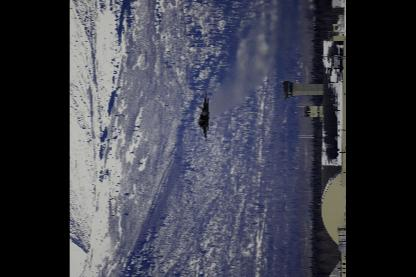F18: (194, 90, 209, 140)
